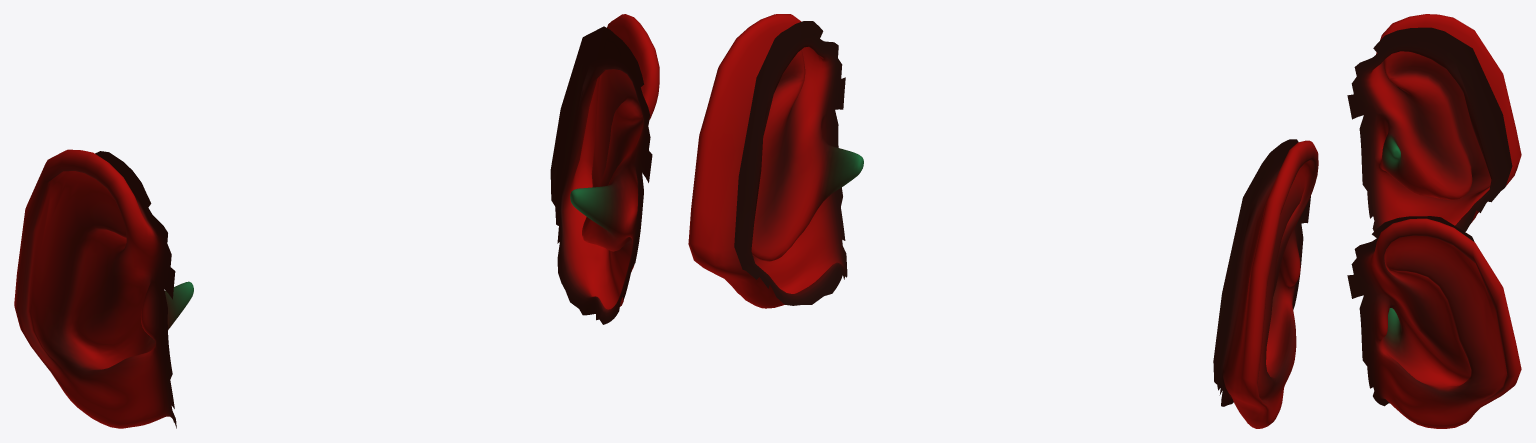
Rendered from oreilles06.dae.
3 renders of one model, left to right at view 1: azimuth 30°, elevation 25°; view 2: azimuth 150°, elevation 25°; view 3: azimuth 270°, elevation 25°, orthographic. The views are drawn at different scales.
Visible parts, largest first — view 1: Object001; view 2: Object001; view 3: Object001.
Part boxes in pixels (bbox=[...]): Object001: bbox=[14, 14, 659, 428]; Object001: bbox=[688, 14, 1318, 428]; Object001: bbox=[1347, 14, 1521, 428].
Bounding box in the file's own units: 17.93 × 6.01 × 8.27.
